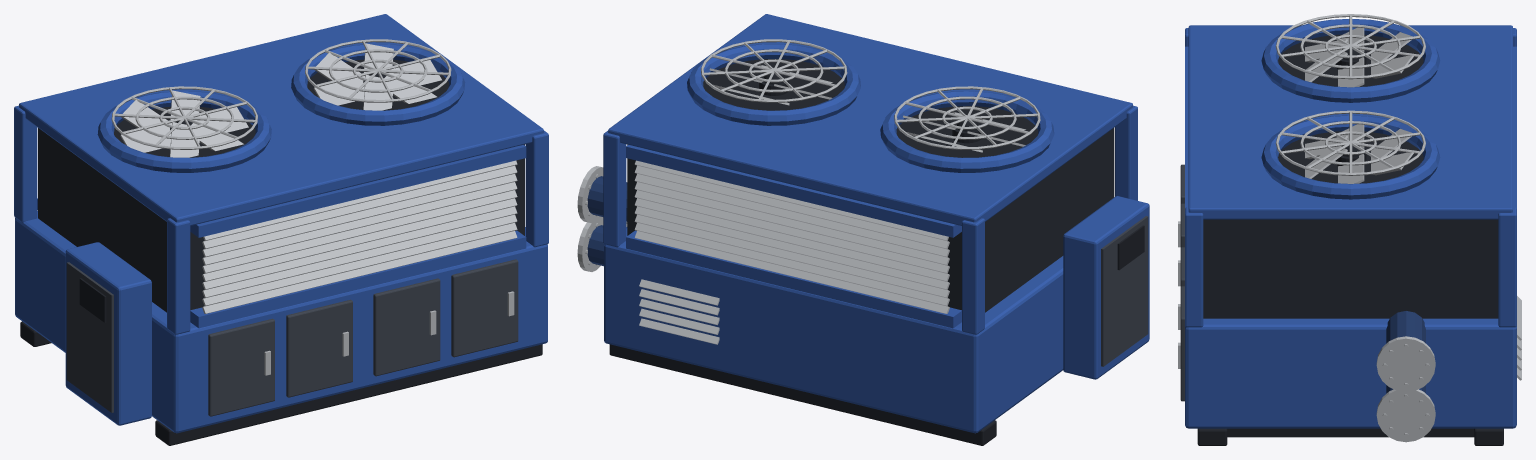
Rendered from chiller.glb.
3 renders of one model, left to right at view 1: azimuth 30°, elevation 25°; view 2: azimuth 150°, elevation 25°; view 3: azimuth 270°, elevation 25°, orthographic. The views are drawn at different scales.
Visible parts, largest first — view 1: chiller_chiller_body, chiller_chiller_metal, chiller_chiller_grille, chiller_chiller_coil, chiller_chiller_dark; view 2: chiller_chiller_body, chiller_chiller_metal, chiller_chiller_dark, chiller_chiller_coil, chiller_chiller_grille, chiller_chiller_pipe; view 3: chiller_chiller_body, chiller_chiller_coil, chiller_chiller_metal, chiller_chiller_dark, chiller_chiller_grille, chiller_chiller_pipe.
Boxes of the visible parts, x1,y1,x2,y2 form: chiller_chiller_body: (14, 14, 548, 433); chiller_chiller_metal: (111, 39, 517, 375); chiller_chiller_grille: (66, 259, 518, 416); chiller_chiller_coil: (38, 128, 524, 312); chiller_chiller_dark: (20, 59, 542, 445); chiller_chiller_body: (603, 14, 1149, 433); chiller_chiller_metal: (577, 39, 1040, 344); chiller_chiller_dark: (609, 59, 1144, 445); chiller_chiller_coil: (627, 128, 1114, 312); chiller_chiller_grille: (1101, 216, 1148, 366); chiller_chiller_pipe: (587, 176, 627, 266); chiller_chiller_body: (1185, 19, 1516, 428); chiller_chiller_coil: (1203, 219, 1498, 318); chiller_chiller_metal: (1178, 14, 1521, 442); chiller_chiller_dark: (1197, 34, 1503, 445); chiller_chiller_grille: (1180, 164, 1184, 401); chiller_chiller_pipe: (1386, 311, 1425, 393).
Bounding box in the file's own units: 3.07 × 1.55 × 1.86.
